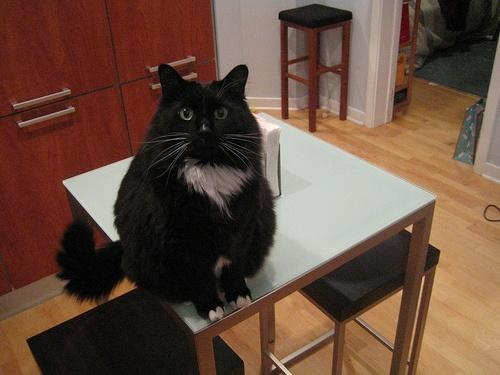cat: (55, 62, 277, 315)
diningtable: (58, 103, 456, 375)
